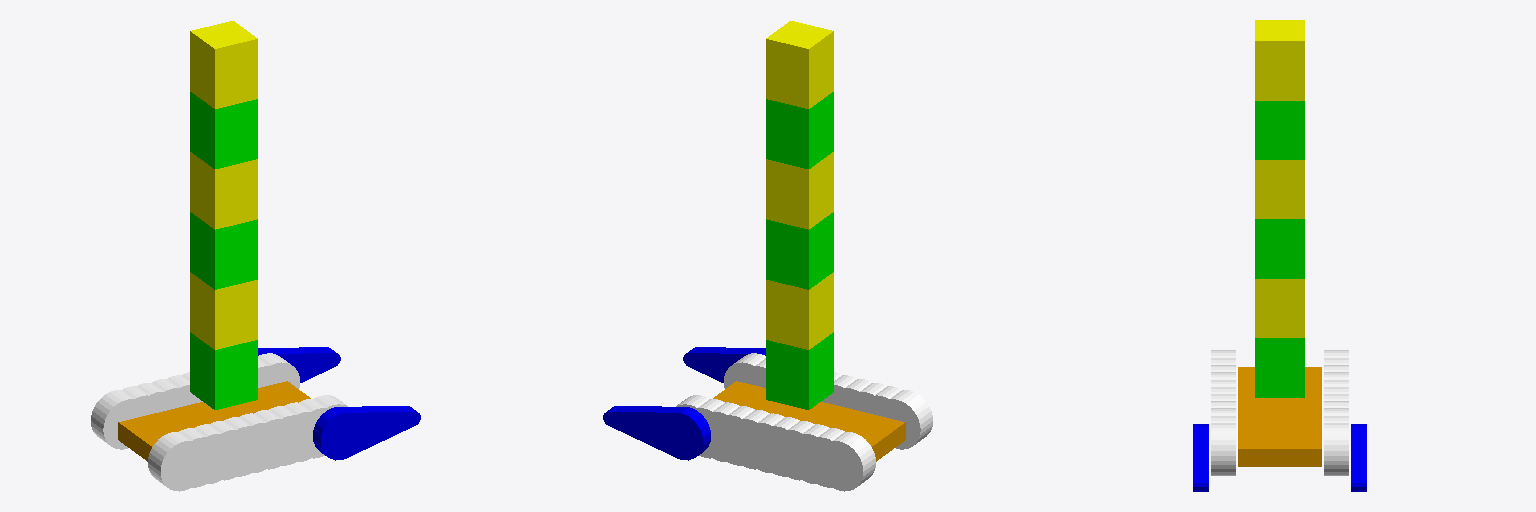
--- What the picture shows (computed from the rendered views, not written in the file) ---
Views: 3 orthographic renders of the robot side by side, from view 1: azimuth 30°, elevation 25°; view 2: azimuth 150°, elevation 25°; view 3: azimuth 270°, elevation 25°.
Model gvrbot_updated with 31 links and 30 joints (7 revolute, 22 continuous, 1 fixed), rooted at base_link, posed every joint at zero.
Visible links, largest first — view 1: payload_block_5, payload_block_2, payload_block_3, payload_block_0, payload_block_4, payload_block_1, base_link, LF_flipper_main, L1, R1, RF_flipper_main, L5 (+9 smaller); view 2: payload_block_5, payload_block_2, payload_block_3, payload_block_0, payload_block_4, payload_block_1, base_link, RF_flipper_main, L1, R1, LF_flipper_main, R2 (+9 smaller); view 3: base_link, payload_block_5, payload_block_0, payload_block_2, payload_block_1, payload_block_3, payload_block_4, L11, R11, LF_flipper_main, RF_flipper_main.
Boxes of the visible links, box(x1,y1,x2,y2) form: payload_block_5: box(190, 21, 257, 108); payload_block_2: box(190, 212, 257, 289); payload_block_3: box(190, 152, 257, 229); payload_block_0: box(190, 332, 257, 409); payload_block_4: box(190, 92, 257, 168); payload_block_1: box(190, 272, 257, 349); base_link: box(118, 381, 310, 461); LF_flipper_main: box(313, 406, 420, 460); L1: box(148, 432, 206, 491); R1: box(91, 390, 149, 449); RF_flipper_main: box(258, 347, 340, 382); L5: box(222, 417, 265, 476); payload_block_5: box(766, 21, 833, 108); payload_block_2: box(766, 212, 833, 289); payload_block_3: box(766, 152, 833, 229); payload_block_0: box(766, 332, 833, 409); payload_block_4: box(766, 92, 833, 168); payload_block_1: box(766, 272, 833, 349); base_link: box(713, 381, 905, 461); RF_flipper_main: box(603, 406, 710, 460); L1: box(874, 390, 932, 449); R1: box(817, 432, 875, 491); LF_flipper_main: box(683, 347, 765, 382); R2: box(802, 428, 847, 487); base_link: box(1238, 367, 1321, 466); payload_block_5: box(1255, 20, 1304, 100); payload_block_0: box(1255, 338, 1304, 397); payload_block_2: box(1255, 219, 1304, 278); payload_block_1: box(1255, 279, 1304, 337); payload_block_3: box(1255, 160, 1304, 218); payload_block_4: box(1255, 101, 1304, 159); L11: box(1211, 423, 1235, 475); R11: box(1324, 423, 1348, 475); LF_flipper_main: box(1193, 424, 1208, 491); RF_flipper_main: box(1351, 424, 1366, 491).
Bounding box of the posed robot: 0.8745 × 0.5328 × 1.37 m (x, y, z).
Meshes: 1 distinct files referenced, 2 mesh visuals loaded (1 binary STL).

robot.urdf — gvrbot_updated:
<?xml version="1.0" ?>
<!-- =================================================================================== -->
<!-- |    This document was autogenerated by xacro from urdf/tracked.xacro               | -->
<!-- |    EDITING THIS FILE BY HAND IS NOT RECOMMENDED                                 | -->
<!-- =================================================================================== -->
<robot name="gvrbot_updated" xmlns:xacro="http://www.ros.org/wiki/xacro">
  <!-- <xacro:include filename="$(find pexod_description)/urdf/pexod_control.xacro" /> -->
  <!-- MATERIALS -->
  <material name="Blue">
    <color rgba="0 0 1 1"/>
  </material>
  <material name="Red">
    <color rgba="1 0 0 1"/>
  </material>
  <material name="Green">
    <color rgba="0 1 0 1"/>
  </material>
  <material name="Yellow">
    <color rgba="1 1 0 1"/>
  </material>
  <material name="Orange">
    <color rgba="1 0.5 0 1"/>
  </material>
  <material name="LightGrey">
    <color rgba="0.6 0.6 0.6 1.0"/>
  </material>
  <material name="White">
    <color rgba="1 1 1 1"/>
  </material>

  <!-- END OF MATERIALS -->
  <!-- XACRO MACROS FOR VISUALS AND COLLISIONS -->
  <!-- END OF XACRO MACROS -->

  <!-- TORSO -->
  <link name="base_link">
    <!---->
    <visual>
      <origin rpy="0 0 0" xyz="0 0 0"/>
      <geometry>
        <box size="0.588 0.254 0.06"/>
      </geometry>
      <material name="Black"/>
    </visual>
    
    <!--
    <visual>
      <origin rpy="0 0 3.14159" xyz="0 0 0"/>
      <geometry>
        <mesh filename="gvr_bot/Base_Centered_Stripped.obj" scale="1.0 1.0 1.0" />
      </geometry>
    </visual>
    -->
    <collision>
      <origin rpy="0 0 0" xyz="0 0 0"/>
      <geometry>
        <box size="0.588 0.254 0.06"/>
      </geometry>
    </collision>

    <inertial>
      <!-- CENTER OF MASS -->
      <origin rpy="0 0 0" xyz="0.03608 0.02822 0"/>
      <mass value="16.9"/>
      <inertia ixx="0.2739" ixy="-0.01732" ixz="0.0142" iyy="0.4754" iyz="-0.00360" izz="0.6768"/>
      <!-- <inertia ixx="0.0173333" ixy="0" ixz="0" iyy="0.02466667" iyz="0" izz="0.04066667"/> -->
    </inertial>
  </link>
  <!-- LINKS/JOINTS -->

  <!-- WHEEELS-->

  <!-- Left Track -->

  <joint name="base_to_L1_wheel" type="continuous">
        <parent link="base_link"/>
        <child link="L1"/> 
        <axis xyz="0 1 0"/>
        <!-- Add 1/2 wheel thickness + 7 mm for the y offset-->
        <!-- Add the (685 mm) track length/2 - wheel radius for the maximal x offset-->
        <!-- Subtract the position of the wheel base above ground (39.5 mm) from wheel radius for the z offset-->
        <origin xyz="-0.2605 -0.1721 0.0125"/>
  </joint>

  <link name="L1">
      <visual> 
          <geometry> 
              <cylinder length="0.0762" radius="0.082"/>
          </geometry>
          <origin rpy="1.57075 0 0"/>
          <material name="White"/>
      </visual>
      <collision> 
            <geometry> 
              <cylinder length="0.0762" radius="0.082"/>
          </geometry>
          <origin rpy="1.57075 0 0"/>
      </collision> 
      <inertial> 
          <origin rpy="1.57075 0 0"/>
          <mass value="0.06227"/>
          <inertia ixx="0.0001348" ixy="0" ixz="0" iyy="0.0001348" iyz="0" izz="0.00020935"/>
      </inertial> 
  </link> 

  <joint name="base_to_L2_wheel" type="continuous">
        <parent link="base_link"/>
        <child link="L2"/> 
        <axis xyz="0 1 0"/>
        <origin xyz="-0.2084 -0.1721 0.0125"/>
  </joint>

  <link name="L2">
      <visual> 
          <geometry> 
              <cylinder length="0.0762" radius="0.082"/>
          </geometry>
          <origin rpy="1.57075 0 0"/>
          <material name="White"/>
      </visual>
      <collision> 
            <geometry> 
              <cylinder length="0.0762" radius="0.082"/>
          </geometry>
          <origin rpy="1.57075 0 0"/>
      </collision> 
      <inertial> 
          <origin rpy="1.57075 0 0"/>
          <mass value="0.06227"/>
          <inertia ixx="0.0001348" ixy="0" ixz="0" iyy="0.0001348" iyz="0" izz="0.00020935"/>
      </inertial> 
  </link> 

  <joint name="base_to_L3_wheel" type="continuous">
        <parent link="base_link"/>
        <child link="L3"/> 
        <axis xyz="0 1 0"/>
        <origin xyz="-0.1563 -0.1721 0.0125"/>
  </joint>

  <link name="L3">
      <visual> 
          <geometry> 
              <cylinder length="0.0762" radius="0.082"/>
          </geometry>
          <origin rpy="1.57075 0 0"/>
          <material name="White"/>
      </visual>
      <collision> 
            <geometry> 
              <cylinder length="0.0762" radius="0.082"/>
          </geometry>
          <origin rpy="1.57075 0 0"/>
      </collision> 
      <inertial> 
          <origin rpy="1.57075 0 0"/>
          <mass value="0.06227"/>
          <inertia ixx="0.0001348" ixy="0" ixz="0" iyy="0.0001348" iyz="0" izz="0.00020935"/>
      </inertial> 
  </link> 
  
  <joint name="base_to_L4_wheel" type="continuous">
        <parent link="base_link"/>
        <child link="L4"/> 
        <axis xyz="0 1 0"/>
        <origin xyz="-0.1042 -0.1721 0.0125"/>
  </joint>

  <link name="L4">
      <visual> 
          <geometry> 
              <cylinder length="0.0762" radius="0.082"/>
          </geometry>
          <origin rpy="1.57075 0 0"/>
          <material name="White"/>
      </visual>
      <collision> 
            <geometry> 
              <cylinder length="0.0762" radius="0.082"/>
          </geometry>
          <origin rpy="1.57075 0 0"/>
      </collision> 
      <inertial> 
          <origin rpy="1.57075 0 0"/>
          <mass value="0.06227"/>
          <inertia ixx="0.0001348" ixy="0" ixz="0" iyy="0.0001348" iyz="0" izz="0.00020935"/>
      </inertial> 
  </link> 

  <joint name="base_to_L5_wheel" type="continuous">
        <parent link="base_link"/>
        <child link="L5"/> 
        <axis xyz="0 1 0"/>
        <origin xyz="-0.0521 -0.1721 0.0125"/>
  </joint>

  <link name="L5">
      <visual> 
          <geometry> 
              <cylinder length="0.0762" radius="0.082"/>
          </geometry>
          <origin rpy="1.57075 0 0"/>
          <material name="White"/>
      </visual>
      <collision> 
            <geometry> 
              <cylinder length="0.0762" radius="0.082"/>
          </geometry>
          <origin rpy="1.57075 0 0"/>
      </collision> 
      <inertial> 
          <origin rpy="1.57075 0 0"/>
          <mass value="0.06227"/>
          <inertia ixx="0.0001348" ixy="0" ixz="0" iyy="0.0001348" iyz="0" izz="0.00020935"/>
      </inertial> 
  </link> 

  <joint name="base_to_L6_wheel" type="continuous">
        <parent link="base_link"/>
        <child link="L6"/> 
        <axis xyz="0 1 0"/>
        <origin xyz="0 -0.1721 0.0125"/>
  </joint>

  <link name="L6">
      <visual> 
          <geometry> 
              <cylinder length="0.0762" radius="0.082"/>
          </geometry>
          <origin rpy="1.57075 0 0"/>
          <material name="White"/>
      </visual>
      <collision> 
            <geometry> 
              <cylinder length="0.0762" radius="0.082"/>
          </geometry>
          <origin rpy="1.57075 0 0"/>
      </collision> 
      <inertial> 
          <origin rpy="1.57075 0 0"/>
          <mass value="0.06227"/>
          <inertia ixx="0.0001348" ixy="0" ixz="0" iyy="0.0001348" iyz="0" izz="0.00020935"/>
      </inertial> 
  </link> 

  <joint name="base_to_L7_wheel" type="continuous">
        <parent link="base_link"/>
        <child link="L7"/> 
        <axis xyz="0 1 0"/>
        <origin xyz="0.0521 -0.1721 0.0125"/>
  </joint>

  <link name="L7">
      <visual> 
          <geometry> 
              <cylinder length="0.0762" radius="0.082"/>
          </geometry>
          <origin rpy="1.57075 0 0"/>
          <material name="White"/>
      </visual>
      <collision> 
            <geometry> 
              <cylinder length="0.0762" radius="0.082"/>
          </geometry>
          <origin rpy="1.57075 0 0"/>
      </collision> 
      <inertial> 
          <origin rpy="1.57075 0 0"/>
          <mass value="0.06227"/>
          <inertia ixx="0.0001348" ixy="0" ixz="0" iyy="0.0001348" iyz="0" izz="0.00020935"/>
      </inertial> 
  </link> 

  <joint name="base_to_L8_wheel" type="continuous">
        <parent link="base_link"/>
        <child link="L8"/> 
        <axis xyz="0 1 0"/>
        <origin xyz="0.1042 -0.1721 0.0125"/>
  </joint>

  <link name="L8">
      <visual> 
          <geometry> 
              <cylinder length="0.0762" radius="0.082"/>
          </geometry>
          <origin rpy="1.57075 0 0"/>
          <material name="White"/>
      </visual>
      <collision> 
            <geometry> 
              <cylinder length="0.0762" radius="0.082"/>
          </geometry>
          <origin rpy="1.57075 0 0"/>
      </collision> 
      <inertial> 
          <origin rpy="1.57075 0 0"/>
          <mass value="0.06227"/>
          <inertia ixx="0.0001348" ixy="0" ixz="0" iyy="0.0001348" iyz="0" izz="0.00020935"/>
      </inertial> 
  </link> 

  <joint name="base_to_L9_wheel" type="continuous">
        <parent link="base_link"/>
        <child link="L9"/> 
        <axis xyz="0 1 0"/>
        <origin xyz="0.1563 -0.1721 0.0125"/>
  </joint>

  <link name="L9">
      <visual> 
          <geometry> 
              <cylinder length="0.0762" radius="0.082"/>
          </geometry>
          <origin rpy="1.57075 0 0"/>
          <material name="White"/>
      </visual>
      <collision> 
            <geometry> 
              <cylinder length="0.0762" radius="0.082"/>
          </geometry>
          <origin rpy="1.57075 0 0"/>
      </collision> 
      <inertial> 
          <origin rpy="1.57075 0 0"/>
          <mass value="0.06227"/>
          <inertia ixx="0.0001348" ixy="0" ixz="0" iyy="0.0001348" iyz="0" izz="0.00020935"/>
      </inertial> 
  </link> 

  <joint name="base_to_L10_wheel" type="continuous">
        <parent link="base_link"/>
        <child link="L10"/> 
        <axis xyz="0 1 0"/>
        <origin xyz="0.2084 -0.1721 0.0125"/>
  </joint>

  <link name="L10">
      <visual> 
          <geometry> 
              <cylinder length="0.0762" radius="0.082"/>
          </geometry>
          <origin rpy="1.57075 0 0"/>
          <material name="White"/>
      </visual>
      <collision> 
            <geometry> 
              <cylinder length="0.0762" radius="0.082"/>
          </geometry>
          <origin rpy="1.57075 0 0"/>
      </collision> 
      <inertial> 
          <origin rpy="1.57075 0 0"/>
          <mass value="0.06227"/>
          <inertia ixx="0.0001348" ixy="0" ixz="0" iyy="0.0001348" iyz="0" izz="0.00020935"/>
      </inertial> 
  </link> 

  <joint name="base_to_L11_wheel" type="continuous">
      <parent link="base_link"/>
      <child link="L11"/> 
      <axis xyz="0 1 0"/>
      <!-- Add 1/2 wheel thickness + 7 mm for the y offset-->
      <!-- Add the (685 mm) track length/2 - wheel radius for the maximal x offset-->
      <!-- Subtract the position of the wheel base above ground (39.5 mm) from wheel radius for the z offset-->
      <origin xyz="0.2605 -0.1721 0.0125"/>
  </joint>

  <link name="L11">
      <visual> 
          <geometry> 
              <cylinder length="0.0762" radius="0.082"/>
          </geometry>
          <origin rpy="1.57075 0 0"/>
          <material name="White"/>
      </visual>
      <collision> 
            <geometry> 
              <cylinder length="0.0762" radius="0.082"/>
          </geometry>
          <origin rpy="1.57075 0 0"/>
      </collision> 
      <inertial> 
          <origin rpy="1.57075 0 0"/>
          <mass value="0.06227"/>
          <inertia ixx="0.0001348" ixy="0" ixz="0" iyy="0.0001348" iyz="0" izz="0.00020935"/>
      </inertial> 
  </link> 
  
  <!-- Right Track -->

  <joint name="base_to_R1_wheel" type="continuous">
        <parent link="base_link"/>
        <child link="R1"/> 
        <axis xyz="0 1 0"/>
        <!-- Add 1/2 wheel thickness + 7 mm for the y offset-->
        <!-- Add the (685 mm) track length/2 - wheel radius for the maximal x offset-->
        <!-- Subtract the position of the wheel base above ground (39.5 mm) from wheel radius for the z offset-->
        <origin xyz="-0.2605 0.1721 0.0125"/>
  </joint>

  <link name="R1">
      <visual> 
          <geometry> 
              <cylinder length="0.0762" radius="0.082"/>
          </geometry>
          <origin rpy="1.57075 0 0"/>
          <material name="White"/>
      </visual>
      <collision> 
            <geometry> 
              <cylinder length="0.0762" radius="0.082"/>
          </geometry>
          <origin rpy="1.57075 0 0"/>
      </collision> 
      <inertial> 
          <origin rpy="1.57075 0 0"/>
          <mass value="0.06227"/>
          <inertia ixx="0.0001348" ixy="0" ixz="0" iyy="0.0001348" iyz="0" izz="0.00020935"/>
      </inertial> 
  </link> 
  
  <joint name="base_to_R2_wheel" type="continuous">
        <parent link="base_link"/>
        <child link="R2"/> 
        <axis xyz="0 1 0"/>
        <origin xyz="-0.2084 0.1721 0.0125"/>
  </joint>

  <link name="R2">
      <visual> 
          <geometry> 
              <cylinder length="0.0762" radius="0.082"/>
          </geometry>
          <origin rpy="1.57075 0 0"/>
          <material name="White"/>
      </visual>
      <collision> 
            <geometry> 
              <cylinder length="0.0762" radius="0.082"/>
          </geometry>
          <origin rpy="1.57075 0 0"/>
      </collision> 
      <inertial> 
          <origin rpy="1.57075 0 0"/>
          <mass value="0.06227"/>
          <inertia ixx="0.0001348" ixy="0" ixz="0" iyy="0.0001348" iyz="0" izz="0.00020935"/>
      </inertial> 
  </link> 

  <joint name="base_to_R3_wheel" type="continuous">
        <parent link="base_link"/>
        <child link="R3"/> 
        <axis xyz="0 1 0"/>
        <origin xyz="-0.1563 0.1721 0.0125"/>
  </joint>

  <link name="R3">
      <visual> 
          <geometry> 
              <cylinder length="0.0762" radius="0.082"/>
          </geometry>
          <origin rpy="1.57075 0 0"/>
          <material name="White"/>
      </visual>
      <collision> 
            <geometry> 
              <cylinder length="0.0762" radius="0.082"/>
          </geometry>
          <origin rpy="1.57075 0 0"/>
      </collision> 
      <inertial> 
          <origin rpy="1.57075 0 0"/>
          <mass value="0.06227"/>
          <inertia ixx="0.0001348" ixy="0" ixz="0" iyy="0.0001348" iyz="0" izz="0.00020935"/>
      </inertial> 
  </link> 
  
  <joint name="base_to_R4_wheel" type="continuous">
        <parent link="base_link"/>
        <child link="R4"/> 
        <axis xyz="0 1 0"/>
        <origin xyz="-0.1042 0.1721 0.0125"/>
  </joint>

  <link name="R4">
      <visual> 
          <geometry> 
              <cylinder length="0.0762" radius="0.082"/>
          </geometry>
          <origin rpy="1.57075 0 0"/>
          <material name="White"/>
      </visual>
      <collision> 
            <geometry> 
              <cylinder length="0.0762" radius="0.082"/>
          </geometry>
          <origin rpy="1.57075 0 0"/>
      </collision> 
      <inertial> 
          <origin rpy="1.57075 0 0"/>
          <mass value="0.06227"/>
          <inertia ixx="0.0001348" ixy="0" ixz="0" iyy="0.0001348" iyz="0" izz="0.00020935"/>
      </inertial> 
  </link> 

  <joint name="base_to_R5_wheel" type="continuous">
        <parent link="base_link"/>
        <child link="R5"/> 
        <axis xyz="0 1 0"/>
        <origin xyz="-0.0521 0.1721 0.0125"/>
  </joint>

  <link name="R5">
      <visual> 
          <geometry> 
              <cylinder length="0.0762" radius="0.082"/>
          </geometry>
          <origin rpy="1.57075 0 0"/>
          <material name="White"/>
      </visual>
      <collision> 
            <geometry> 
              <cylinder length="0.0762" radius="0.082"/>
          </geometry>
          <origin rpy="1.57075 0 0"/>
      </collision> 
      <inertial> 
          <origin rpy="1.57075 0 0"/>
          <mass value="0.06227"/>
          <inertia ixx="0.0001348" ixy="0" ixz="0" iyy="0.0001348" iyz="0" izz="0.00020935"/>
      </inertial> 
  </link> 

  <joint name="base_to_R6_wheel" type="continuous">
        <parent link="base_link"/>
        <child link="R6"/> 
        <axis xyz="0 1 0"/>
        <origin xyz="0 0.1721 0.0125"/>
  </joint>

  <link name="R6">
      <visual> 
          <geometry> 
              <cylinder length="0.0762" radius="0.082"/>
          </geometry>
          <origin rpy="1.57075 0 0"/>
          <material name="White"/>
      </visual>
      <collision> 
            <geometry> 
              <cylinder length="0.0762" radius="0.082"/>
          </geometry>
          <origin rpy="1.57075 0 0"/>
      </collision> 
      <inertial> 
          <origin rpy="1.57075 0 0"/>
          <mass value="0.06227"/>
          <inertia ixx="0.0001348" ixy="0" ixz="0" iyy="0.0001348" iyz="0" izz="0.00020935"/>
      </inertial> 
  </link> 

  <joint name="base_to_R7_wheel" type="continuous">
        <parent link="base_link"/>
        <child link="R7"/> 
        <axis xyz="0 1 0"/>
        <origin xyz="0.0521 0.1721 0.0125"/>
  </joint>

  <link name="R7">
      <visual> 
          <geometry> 
              <cylinder length="0.0762" radius="0.082"/>
          </geometry>
          <origin rpy="1.57075 0 0"/>
          <material name="White"/>
      </visual>
      <collision> 
            <geometry> 
              <cylinder length="0.0762" radius="0.082"/>
          </geometry>
          <origin rpy="1.57075 0 0"/>
      </collision> 
      <inertial> 
          <origin rpy="1.57075 0 0"/>
          <mass value="0.06227"/>
          <inertia ixx="0.0001348" ixy="0" ixz="0" iyy="0.0001348" iyz="0" izz="0.00020935"/>
      </inertial> 
  </link> 

  <joint name="base_to_R8_wheel" type="continuous">
        <parent link="base_link"/>
        <child link="R8"/> 
        <axis xyz="0 1 0"/>
        <origin xyz="0.1042 0.1721 0.0125"/>
  </joint>

  <link name="R8">
      <visual> 
          <geometry> 
              <cylinder length="0.0762" radius="0.082"/>
          </geometry>
          <origin rpy="1.57075 0 0"/>
          <material name="White"/>
      </visual>
      <collision> 
            <geometry> 
              <cylinder length="0.0762" radius="0.082"/>
          </geometry>
          <origin rpy="1.57075 0 0"/>
      </collision> 
      <inertial> 
          <origin rpy="1.57075 0 0"/>
          <mass value="0.06227"/>
          <inertia ixx="0.0001348" ixy="0" ixz="0" iyy="0.0001348" iyz="0" izz="0.00020935"/>
      </inertial> 
  </link> 

  <joint name="base_to_R9_wheel" type="continuous">
        <parent link="base_link"/>
        <child link="R9"/> 
        <axis xyz="0 1 0"/>
        <origin xyz="0.1563 0.1721 0.0125"/>
  </joint>

  <link name="R9">
      <visual> 
          <geometry> 
              <cylinder length="0.0762" radius="0.082"/>
          </geometry>
          <origin rpy="1.57075 0 0"/>
          <material name="White"/>
      </visual>
      <collision> 
            <geometry> 
              <cylinder length="0.0762" radius="0.082"/>
          </geometry>
          <origin rpy="1.57075 0 0"/>
      </collision> 
      <inertial> 
          <origin rpy="1.57075 0 0"/>
          <mass value="0.06227"/>
          <inertia ixx="0.0001348" ixy="0" ixz="0" iyy="0.0001348" iyz="0" izz="0.00020935"/>
      </inertial> 
  </link> 

  <joint name="base_to_R10_wheel" type="continuous">
        <parent link="base_link"/>
        <child link="R10"/> 
        <axis xyz="0 1 0"/>
        <origin xyz="0.2084 0.1721 0.0125"/>
  </joint>

  <link name="R10">
      <visual> 
          <geometry> 
              <cylinder length="0.0762" radius="0.082"/>
          </geometry>
          <origin rpy="1.57075 0 0"/>
          <material name="White"/>
      </visual>
      <collision> 
            <geometry> 
              <cylinder length="0.0762" radius="0.082"/>
          </geometry>
          <origin rpy="1.57075 0 0"/>
      </collision> 
      <inertial> 
          <origin rpy="1.57075 0 0"/>
          <mass value="0.06227"/>
          <inertia ixx="0.0001348" ixy="0" ixz="0" iyy="0.0001348" iyz="0" izz="0.00020935"/>
      </inertial> 
  </link> 

  <joint name="base_to_R11_wheel" type="continuous">
      <parent link="base_link"/>
      <child link="R11"/> 
      <axis xyz="0 1 0"/>
      <!-- Add 1/2 wheel thickness + 7 mm for the y offset-->
      <!-- Add the (685 mm) track length/2 - wheel radius for the maximal x offset-->
      <!-- Subtract the position of the wheel base above ground (39.5 mm) from wheel radius for the z offset-->
      <origin xyz="0.2605 0.1721 0.0125"/>
  </joint>

  <link name="R11">
      <visual> 
          <geometry> 
              <cylinder length="0.0762" radius="0.082"/>
          </geometry>
          <origin rpy="1.57075 0 0"/>
          <material name="White"/>
      </visual>
      <collision> 
            <geometry> 
              <cylinder length="0.0762" radius="0.082"/>
          </geometry>
          <origin rpy="1.57075 0 0"/>
      </collision> 
      <inertial> 
          <origin rpy="1.57075 0 0"/>
          <mass value="0.06227"/>
          <inertia ixx="0.0001348" ixy="0" ixz="0" iyy="0.0001348" iyz="0" izz="0.00020935"/>
      </inertial> 
  </link> 
    
  <!-- FLIPPERS -->

  <!-- FRONT LEFT FLIPPER-->

  <joint name="base_to_LF_flipper" type="revolute">
    <parent link="base_link"/>
    <child link="LF_flipper_main"/>
    <limit effort="30.0" lower="-1.57079632679" upper="1.57079632679" velocity="7.0"/>
    <!--Add the wheel thickness and the half width of the flipper and 7 mm to get the y offset-->
      <origin xyz="0.2605 -0.2418 0.0125"/>
    <axis xyz="0 1 0"/>
    <dynamics damping="0.0"/>
  </joint>

  <link name="LF_flipper_main">
    <visual>
      <geometry>
        <mesh filename="gvrbot_step_files/flipper.stl" scale="0.001 0.001 0.001"/>
      </geometry>
      <origin rpy="0 0 1.57075" xyz="0 0 0"/>
      <material name="Blue" />
    </visual>
    <collision>
      <geometry>
        <mesh filename="gvrbot_step_files/flipper.stl" scale="0.001 0.001 0.001"/>
      </geometry>
      <origin rpy="0 0 1.57075" xyz="0 0 0"/>
    </collision>
    <inertial>
        <mass value="1.026" />
        <origin rpy="0 0 0" xyz="0.03 0 0 " />
        <inertia ixx="0.000926" ixy="0" ixz="0" iyy="0.001459" iyz="0" izz="0.00825" />
      </inertial>
  </link>
 
  <!-- FRONT RIGHT FLIPPER-->

  <joint name="base_to_RF_flipper" type="revolute">
      <parent link="base_link"/>
      <child link="RF_flipper_main"/>
      <limit effort="30.0" lower="-1.57079632679" upper="1.57079632679" velocity="7.0"/>
      <origin xyz="0.2605 0.2418 0.0125"/>
      <axis xyz="0 1 0"/>
      <dynamics damping="0.0"/>
  </joint>

  <link name="RF_flipper_main">
    <visual>
      <geometry>
        <mesh filename="gvrbot_step_files/flipper.stl" scale="0.001 0.001 0.001"/>
      </geometry>
      <origin rpy="0 0 1.57075" xyz="0 0 0"/>
      <material name="Blue" />
    </visual>
    <collision>
      <geometry>
        <mesh filename="gvrbot_step_files/flipper.stl" scale="0.001 0.001 0.001"/>
      </geometry>
      <origin rpy="0 0 1.57075" xyz="0 0 0"/>
    </collision>
    <inertial>
        <mass value="1.026" />
        <origin rpy="0 0 0" xyz="0.03 0 0" />
        <inertia ixx="0.000926" ixy="0" ixz="0" iyy="0.001459" iyz="0" izz="0.00825" />
      </inertial>
  </link>
  
  <!-- ADDING PAYLOAD -->

                <joint name="body_payload" type="fixed">
                    <parent link="base_link"/>
                    <child link="payload_block_0"/>
                </joint>
            
                <link name="payload_block_0">
                    <visual>
                    <origin rpy="0 0 0" xyz="0.0 0.0 0.2"/>  <!-- z = height/2 + 0.02 -->
                    <geometry>
                        <box size="0.15 0.15 0.2"/>
                    </geometry>
                    <material name="Green"/>
                    </visual>
                    <collision>
                    <origin rpy="0 0 0" xyz="0.00 0.00 0.2"/> <!-- z = height/2 + 0.02 -->
                    <geometry>
                        <box size="0.15 0.15 0.2"/>
                    </geometry>
                    </collision>
                    <inertial>
                    <!-- CENTER OF MASS -->
                    <origin rpy="0 0 0" xyz="0.0 0.0 0.1"/>
                    <mass value="8.333333333333334"/>
                    <!-- box inertia: 1/12*m(y^2+z^2), ... -->
                    <inertia ixx="0.043402777777777776" ixy="0" ixz="0" iyy="0.043402777777777776" iyz="0" izz="0.031249999999999997"/>
                    </inertial>
                </link>
            
                <joint name="payload0_payload1" type="revolute">
                    <parent link="payload_block_0"/>
                    <child link="payload_block_1"/>
                    <limit effort="10.0" lower="-0.5" upper="0.5" velocity="20.0"/>
                    <origin rpy="0 0 0.0" xyz="0.0 0.0 0.2"/>
                    <axis xyz="0 1 0"/>
                    <dynamics damping="0.02"/>
                </joint>
            
                <link name="payload_block_1">
                    <visual>
                    <origin rpy="0 0 0" xyz="0.0 0.0 0.2"/>  <!-- z = height/2 + 0.02 -->
                    <geometry>
                        <box size="0.15 0.15 0.2"/>
                    </geometry>
                    <material name="Yellow"/>
                    </visual>
                    <collision>
                    <origin rpy="0 0 0" xyz="0.00 0.00 0.2"/> <!-- z = height/2 + 0.02 -->
                    <geometry>
                        <box size="0.15 0.15 0.2"/>
                    </geometry>
                    </collision>
                    <inertial>
                    <!-- CENTER OF MASS -->
                    <origin rpy="0 0 0" xyz="0.0 0.0 0.1"/>
                    <mass value="8.333333333333334"/>
                    <!-- box inertia: 1/12*m(y^2+z^2), ... -->
                    <inertia ixx="0.043402777777777776" ixy="0" ixz="0" iyy="0.043402777777777776" iyz="0" izz="0.031249999999999997"/>
                    </inertial>
                </link>
            
                <joint name="payload1_payload2" type="revolute">
                    <parent link="payload_block_1"/>
                    <child link="payload_block_2"/>
                    <limit effort="10.0" lower="-0.5" upper="0.5" velocity="20.0"/>
                    <origin rpy="0 0 0.0" xyz="0.0 0.0 0.2"/>
                    <axis xyz="1 0 0"/>
                    <dynamics damping="0.02"/>
                </joint>
            
                <link name="payload_block_2">
                    <visual>
                    <origin rpy="0 0 0" xyz="0.0 0.0 0.2"/>  <!-- z = height/2 + 0.02 -->
                    <geometry>
                        <box size="0.15 0.15 0.2"/>
                    </geometry>
                    <material name="Green"/>
                    </visual>
                    <collision>
                    <origin rpy="0 0 0" xyz="0.00 0.00 0.2"/> <!-- z = height/2 + 0.02 -->
                    <geometry>
                        <box size="0.15 0.15 0.2"/>
                    </geometry>
                    </collision>
                    <inertial>
                    <!-- CENTER OF MASS -->
                    <origin rpy="0 0 0" xyz="0.0 0.0 0.1"/>
                    <mass value="8.333333333333334"/>
                    <!-- box inertia: 1/12*m(y^2+z^2), ... -->
                    <inertia ixx="0.043402777777777776" ixy="0" ixz="0" iyy="0.043402777777777776" iyz="0" izz="0.031249999999999997"/>
                    </inertial>
                </link>
            
                <joint name="payload2_payload3" type="revolute">
                    <parent link="payload_block_2"/>
                    <child link="payload_block_3"/>
                    <limit effort="10.0" lower="-0.5" upper="0.5" velocity="20.0"/>
                    <origin rpy="0 0 0.0" xyz="0.0 0.0 0.2"/>
                    <axis xyz="0 1 0"/>
                    <dynamics damping="0.02"/>
                </joint>
            
                <link name="payload_block_3">
                    <visual>
                    <origin rpy="0 0 0" xyz="0.0 0.0 0.2"/>  <!-- z = height/2 + 0.02 -->
                    <geometry>
                        <box size="0.15 0.15 0.2"/>
                    </geometry>
                    <material name="Yellow"/>
                    </visual>
                    <collision>
                    <origin rpy="0 0 0" xyz="0.00 0.00 0.2"/> <!-- z = height/2 + 0.02 -->
                    <geometry>
                        <box size="0.15 0.15 0.2"/>
                    </geometry>
                    </collision>
                    <inertial>
                    <!-- CENTER OF MASS -->
                    <origin rpy="0 0 0" xyz="0.0 0.0 0.1"/>
                    <mass value="8.333333333333334"/>
                    <!-- box inertia: 1/12*m(y^2+z^2), ... -->
                    <inertia ixx="0.043402777777777776" ixy="0" ixz="0" iyy="0.043402777777777776" iyz="0" izz="0.031249999999999997"/>
                    </inertial>
                </link>
            
                <joint name="payload3_payload4" type="revolute">
                    <parent link="payload_block_3"/>
                    <child link="payload_block_4"/>
                    <limit effort="10.0" lower="-0.5" upper="0.5" velocity="20.0"/>
                    <origin rpy="0 0 0.0" xyz="0.0 0.0 0.2"/>
                    <axis xyz="1 0 0"/>
                    <dynamics damping="0.02"/>
                </joint>
            
                <link name="payload_block_4">
                    <visual>
                    <origin rpy="0 0 0" xyz="0.0 0.0 0.2"/>  <!-- z = height/2 + 0.02 -->
                    <geometry>
                        <box size="0.15 0.15 0.2"/>
                    </geometry>
                    <material name="Green"/>
                    </visual>
                    <collision>
                    <origin rpy="0 0 0" xyz="0.00 0.00 0.2"/> <!-- z = height/2 + 0.02 -->
                    <geometry>
                        <box size="0.15 0.15 0.2"/>
                    </geometry>
                    </collision>
                    <inertial>
                    <!-- CENTER OF MASS -->
                    <origin rpy="0 0 0" xyz="0.0 0.0 0.1"/>
                    <mass value="8.333333333333334"/>
                    <!-- box inertia: 1/12*m(y^2+z^2), ... -->
                    <inertia ixx="0.043402777777777776" ixy="0" ixz="0" iyy="0.043402777777777776" iyz="0" izz="0.031249999999999997"/>
                    </inertial>
                </link>
            
                <joint name="payload4_payload5" type="revolute">
                    <parent link="payload_block_4"/>
                    <child link="payload_block_5"/>
                    <limit effort="10.0" lower="-0.5" upper="0.5" velocity="20.0"/>
                    <origin rpy="0 0 0.0" xyz="0.0 0.0 0.2"/>
                    <axis xyz="0 1 0"/>
                    <dynamics damping="0.02"/>
                </joint>
            
                <link name="payload_block_5">
                    <visual>
                    <origin rpy="0 0 0" xyz="0.0 0.0 0.2"/>  <!-- z = height/2 + 0.02 -->
                    <geometry>
                        <box size="0.15 0.15 0.2"/>
                    </geometry>
                    <material name="Yellow"/>
                    </visual>
                    <collision>
                    <origin rpy="0 0 0" xyz="0.00 0.00 0.2"/> <!-- z = height/2 + 0.02 -->
                    <geometry>
                        <box size="0.15 0.15 0.2"/>
                    </geometry>
                    </collision>
                    <inertial>
                    <!-- CENTER OF MASS -->
                    <origin rpy="0 0 0" xyz="0.0 0.0 0.1"/>
                    <mass value="8.333333333333334"/>
                    <!-- box inertia: 1/12*m(y^2+z^2), ... -->
                    <inertia ixx="0.043402777777777776" ixy="0" ixz="0" iyy="0.043402777777777776" iyz="0" izz="0.031249999999999997"/>
                    </inertial>
                </link>
             
<!-- END PAYLOAD -->

 
</robot>
